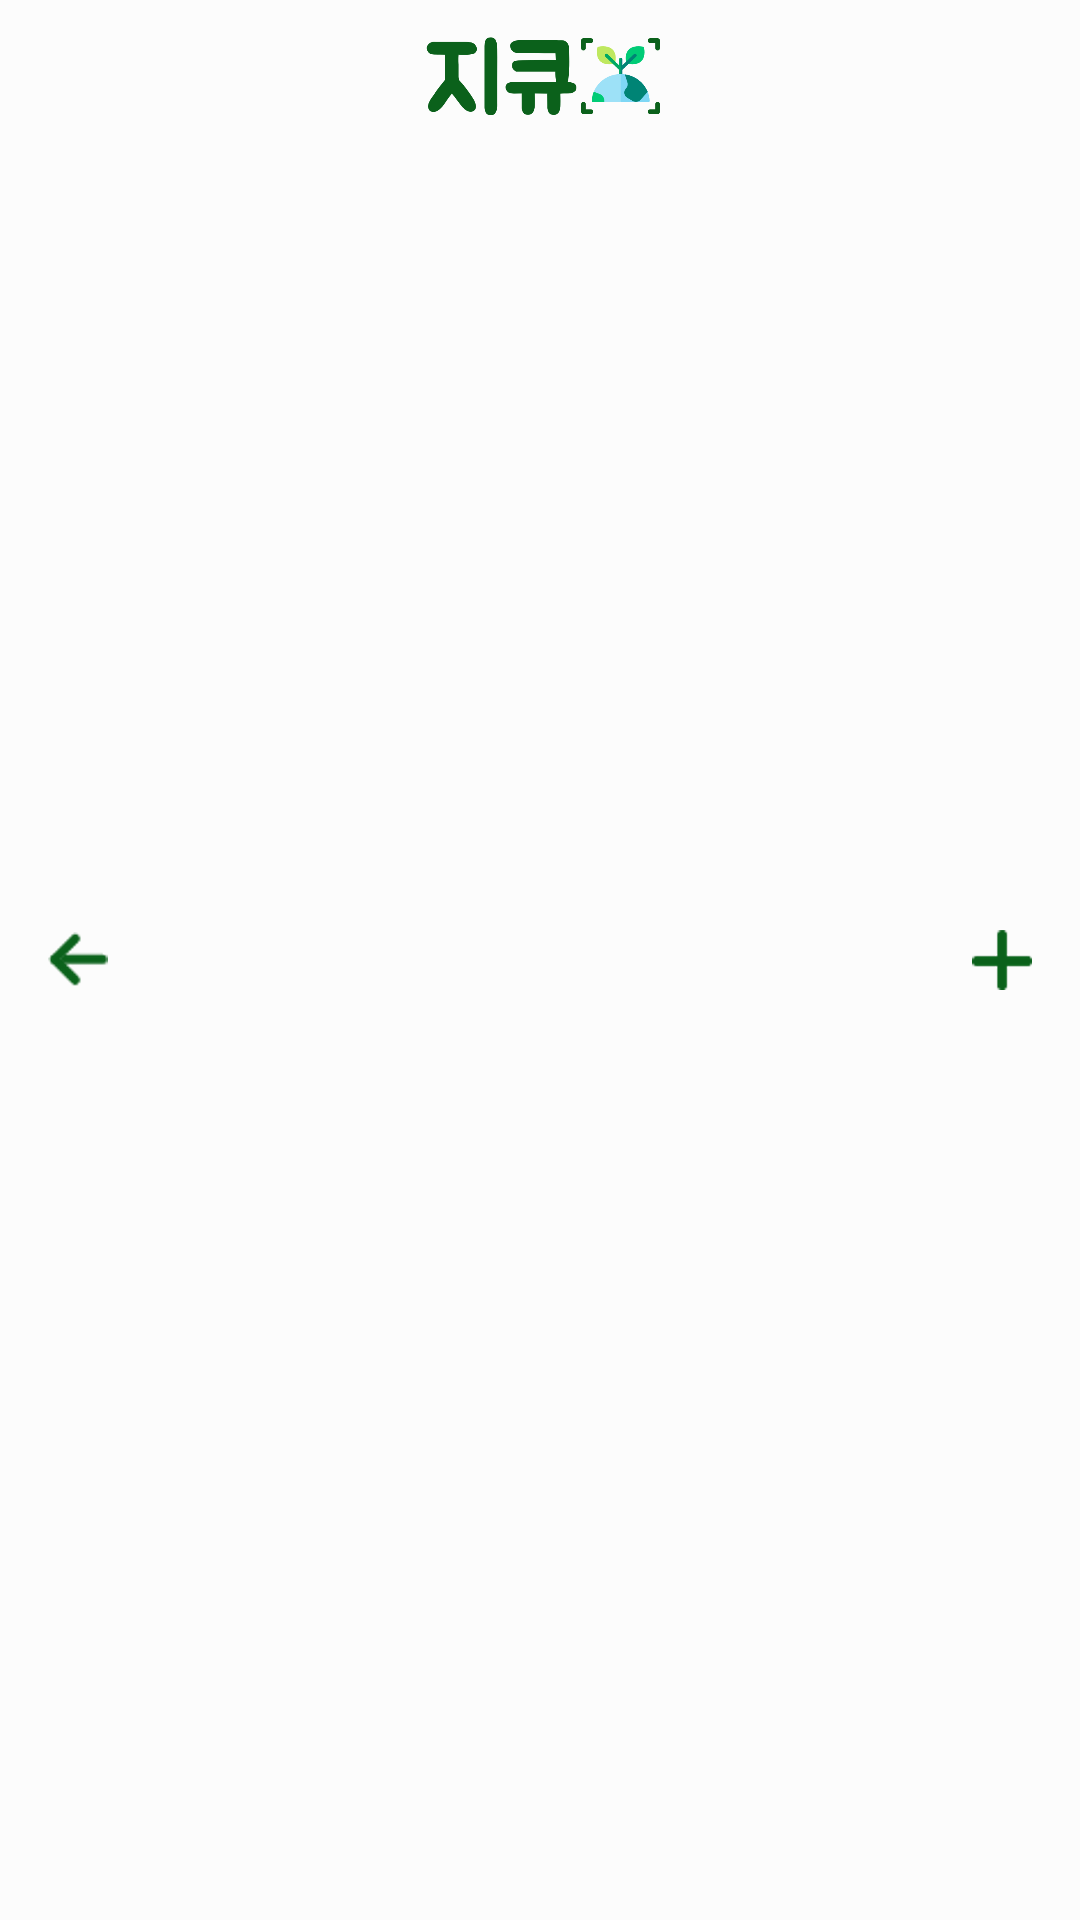

Point at icon controls on the screen. Image size 1080x1920, points as [x,y].
back: [78,959]
